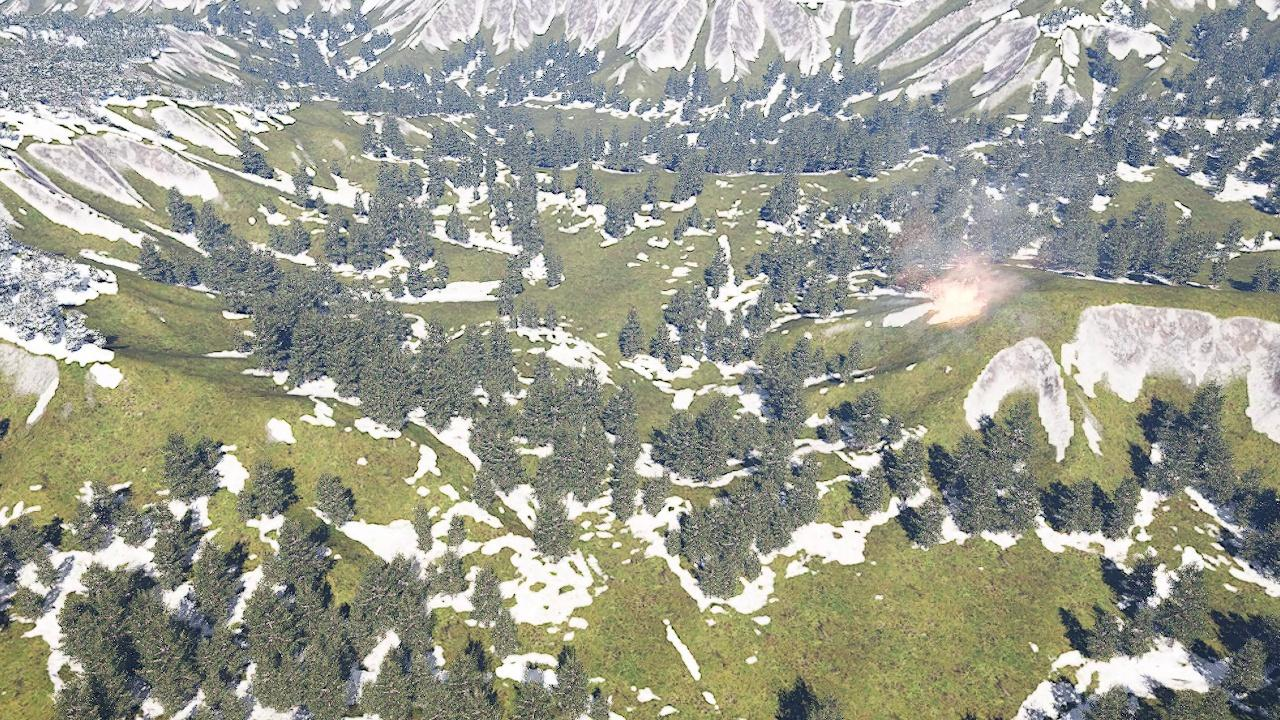fire: (930, 284, 983, 326)
smoke: (898, 182, 1033, 305)
